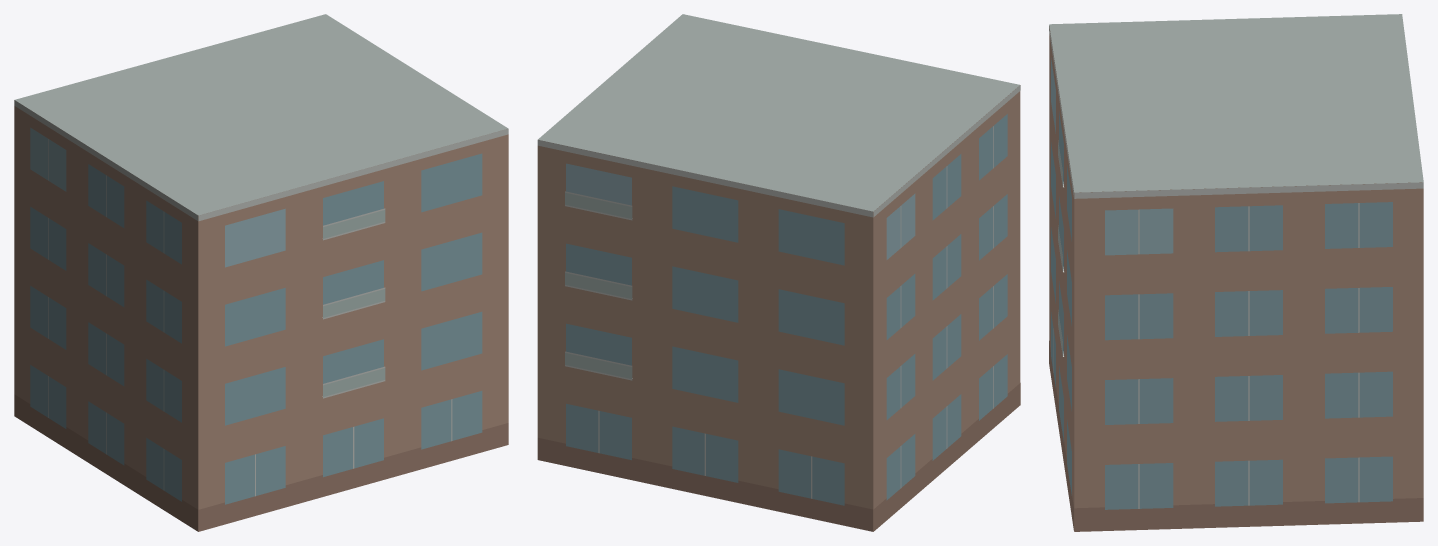
File: survey-upis-32953483.glb
3 views of the same model, side by side, from view 1: azimuth 30°, elevation 25°; view 2: azimuth 150°, elevation 25°; view 3: azimuth 270°, elevation 25° (orthographic). The views are drawn at different scales.
Visible parts, largest first — view 1: survey-upis-32953483.tmp; view 2: survey-upis-32953483.tmp; view 3: survey-upis-32953483.tmp.
Part boxes in pixels (left/top/right/bottom): survey-upis-32953483.tmp: left=14, top=14, right=508, bottom=531; survey-upis-32953483.tmp: left=537, top=14, right=1020, bottom=531; survey-upis-32953483.tmp: left=1049, top=14, right=1423, bottom=531.
Size of the model in its own units: 14.91 by 13.2 by 13.22.
